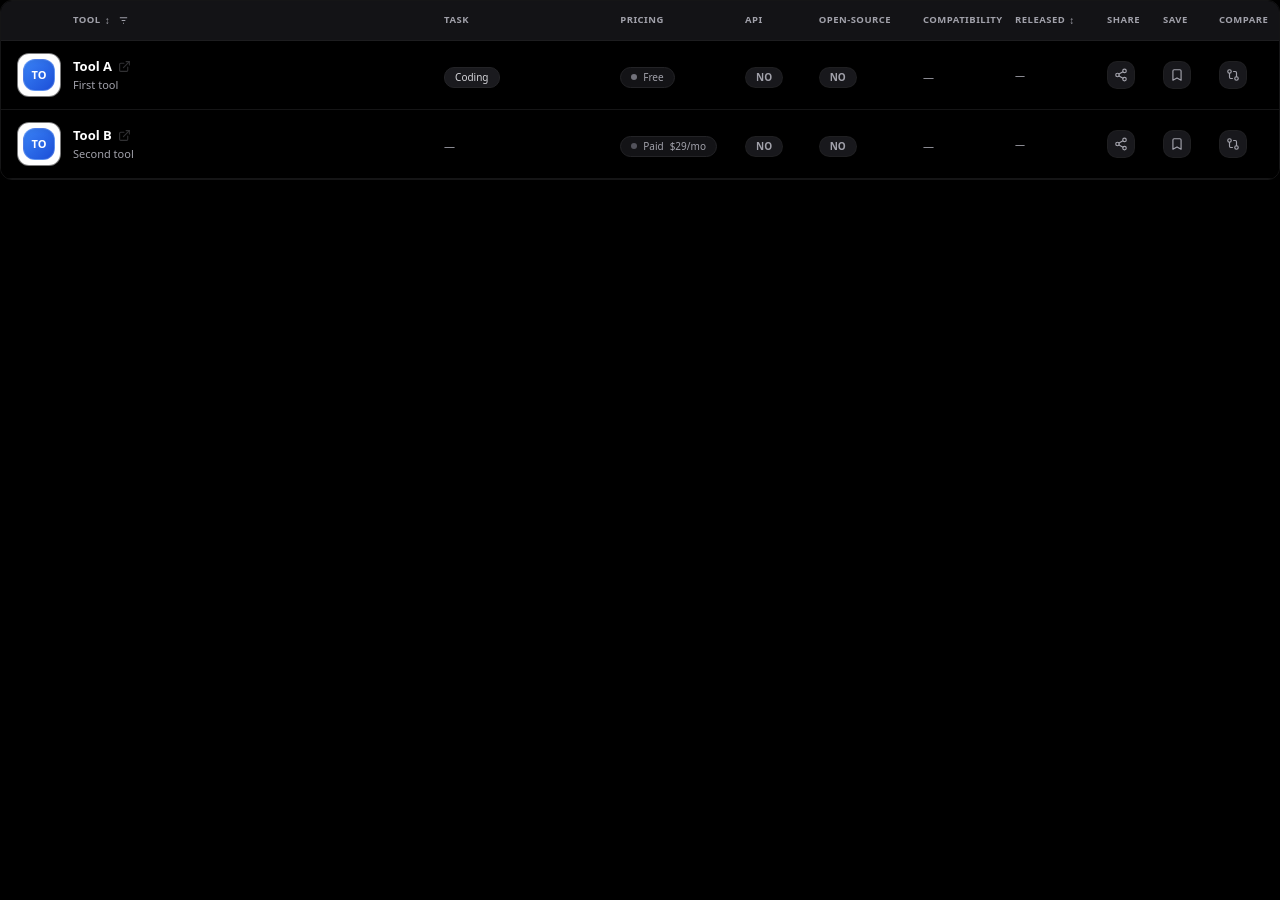
Test case: ToolListView › allows selecting tools for compare
Click the button named "Add Tool A to compare": (1233, 75) [1219,61,1247,89]
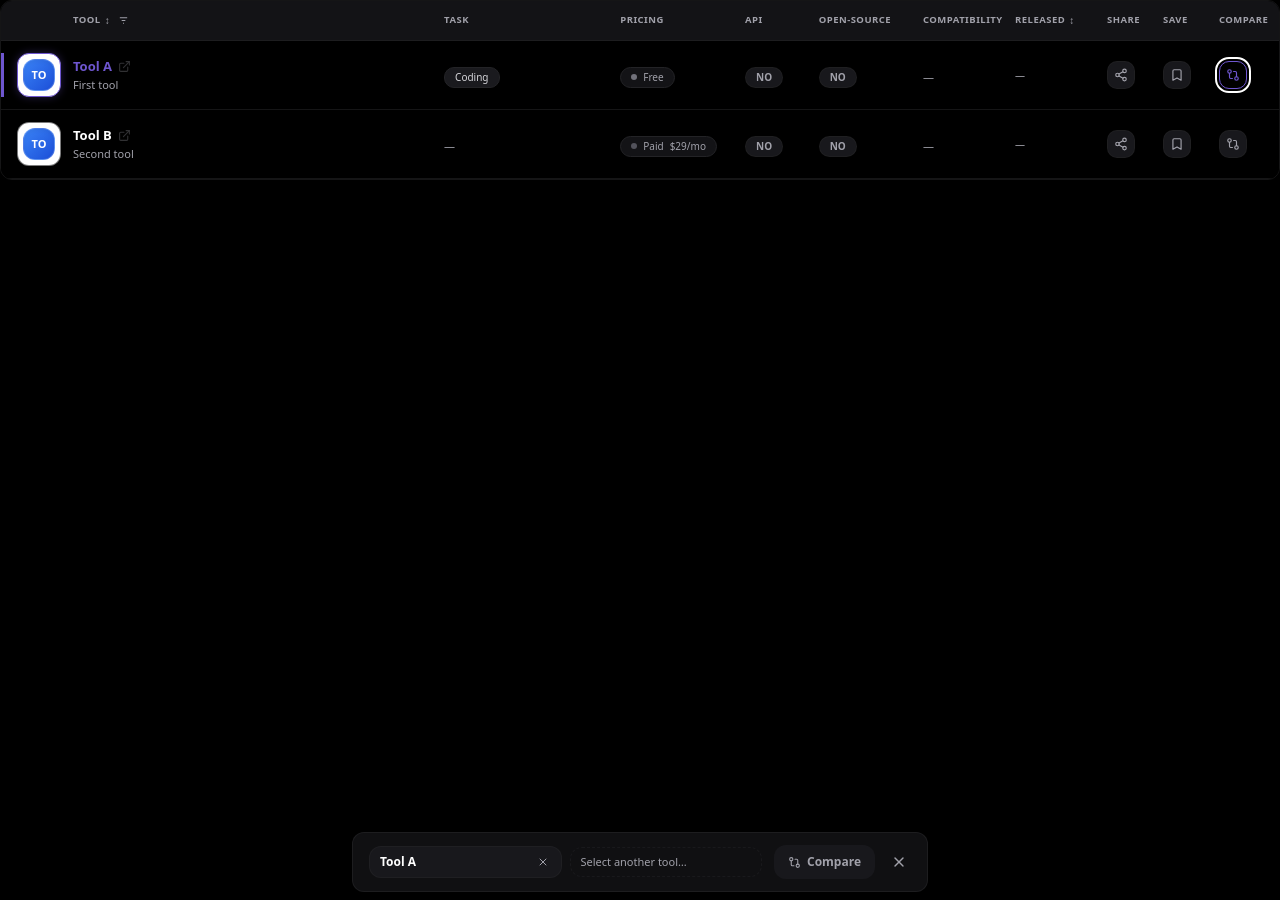
Result: the text "Select another tool…" is shown at [580,854,687,870]
